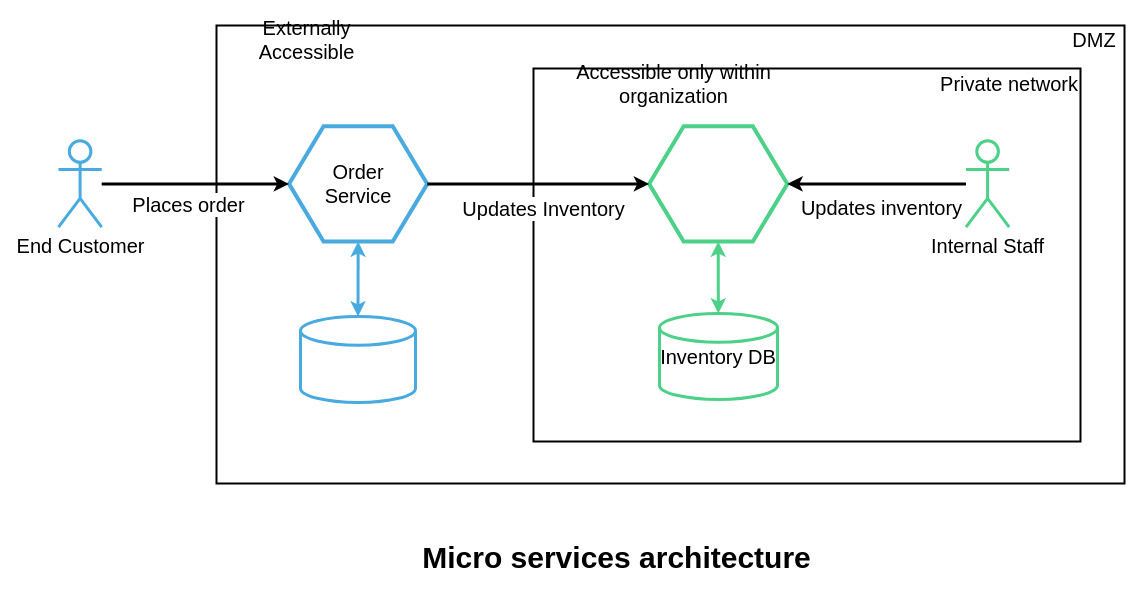
The diagram is 1143 pixels wide and 592 high, and some of its shapes have lost their labels. Each missing label, with the centre of its shape:
"Inventory Service" belongs at (718,183).
"Order DB" belongs at (357,359).
